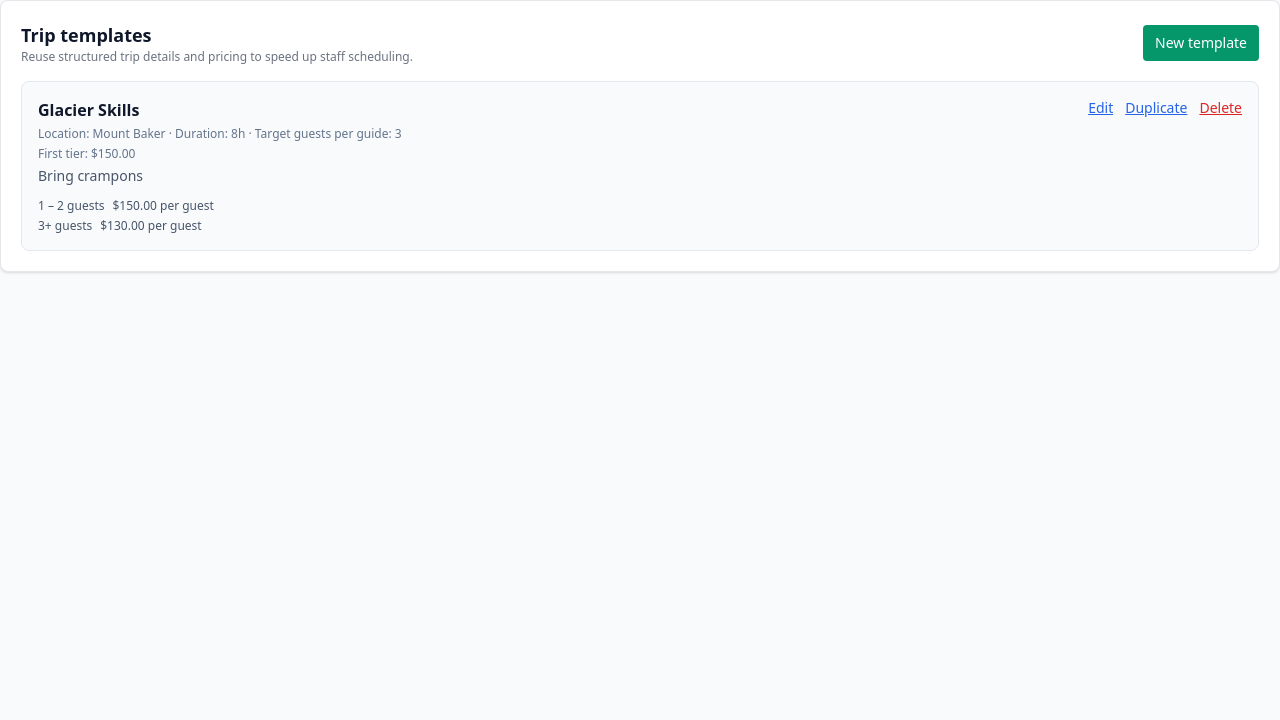
Test: ServiceTemplatesCard › edits an existing template
The image size is (1280, 720).
expect the heading "Glacier Skills" is shown: met, box [38,99,140,121]
Step 1. Click the button "Edit" → (1101, 108), box [1088,98,1113,118]
(page scrolled)
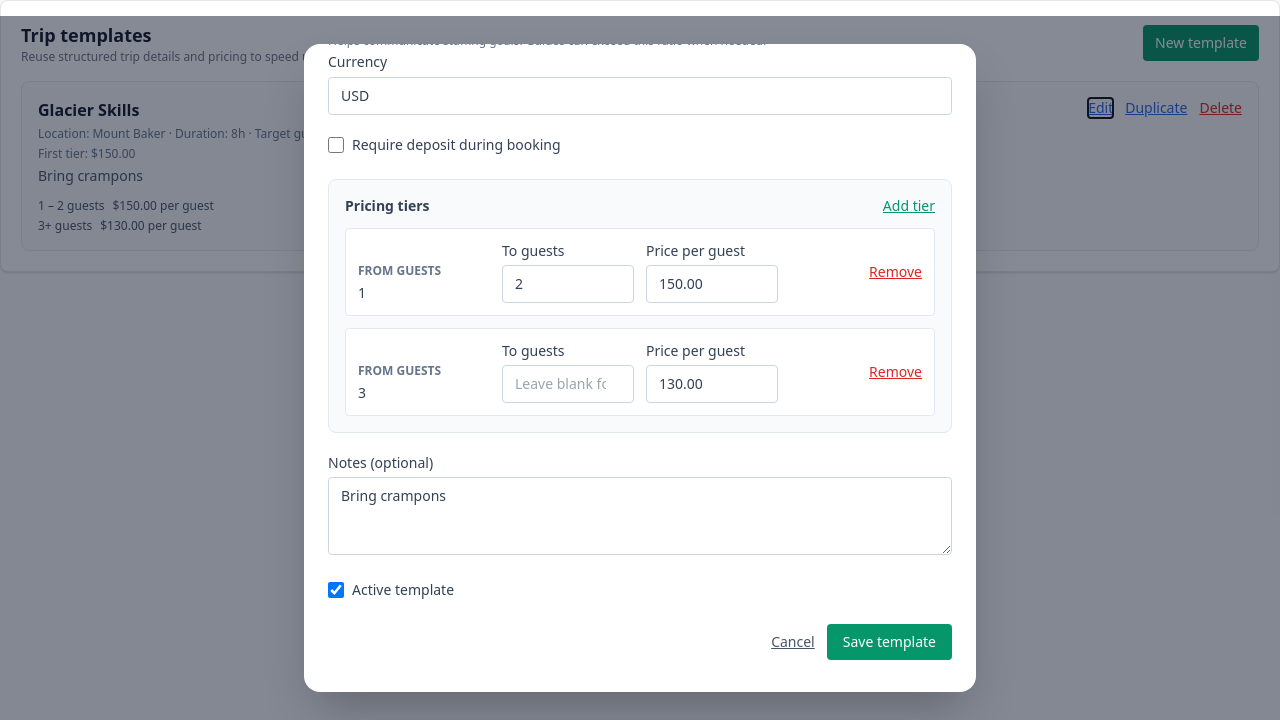
Step 2. Replace the text in the text box labelled "Notes (optional)" with "Updated notes" → (640, 516), box [328,477,952,555]
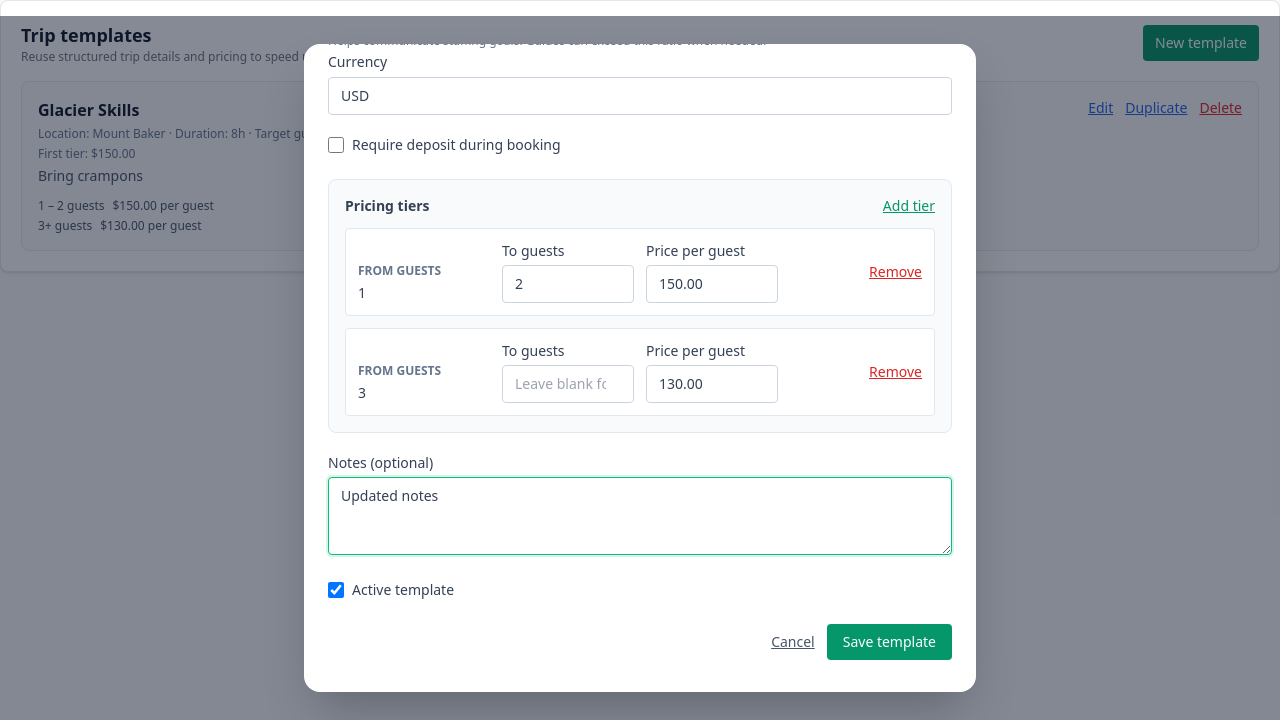
Step 3. Replace the text in the 1st number field labelled "Price per guest" with "155" → (712, 284), box [646,265,778,303]
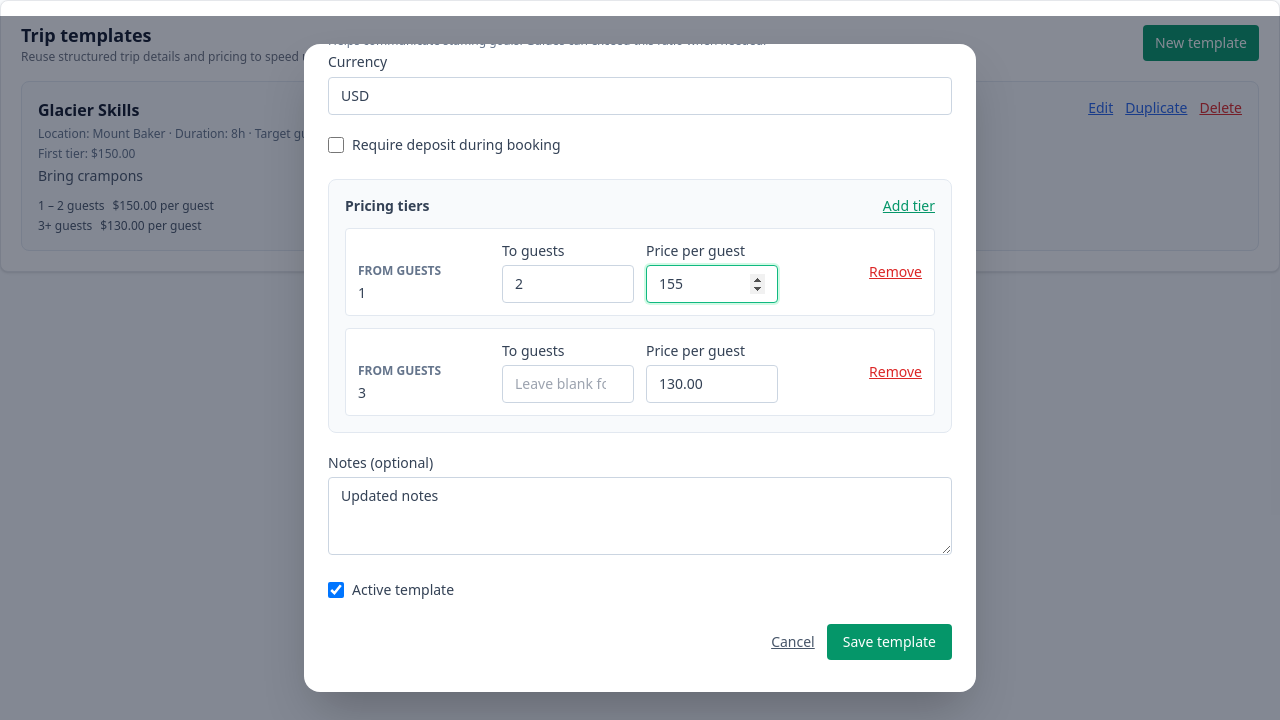
Step 4. Click the checkbox labelled "Active template" → (336, 590), box [328,582,344,598]
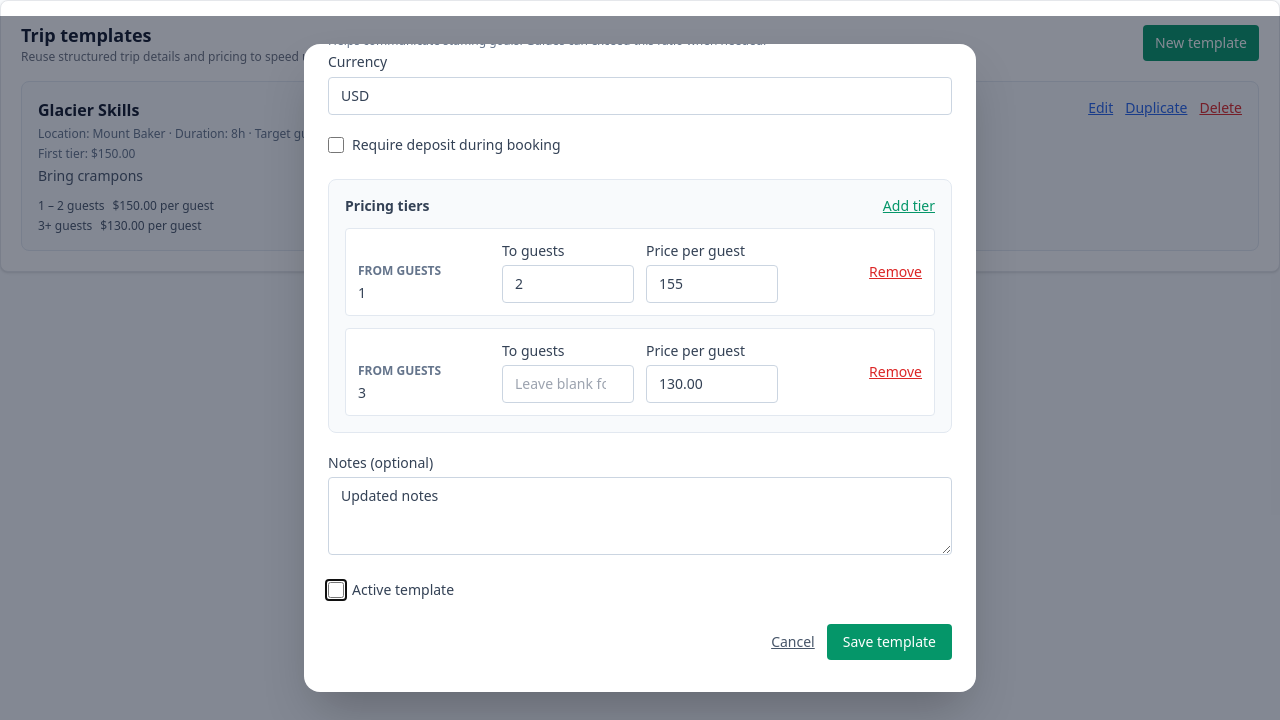
Step 5. Click the button "Save template" → (889, 642), box [827,624,952,660]
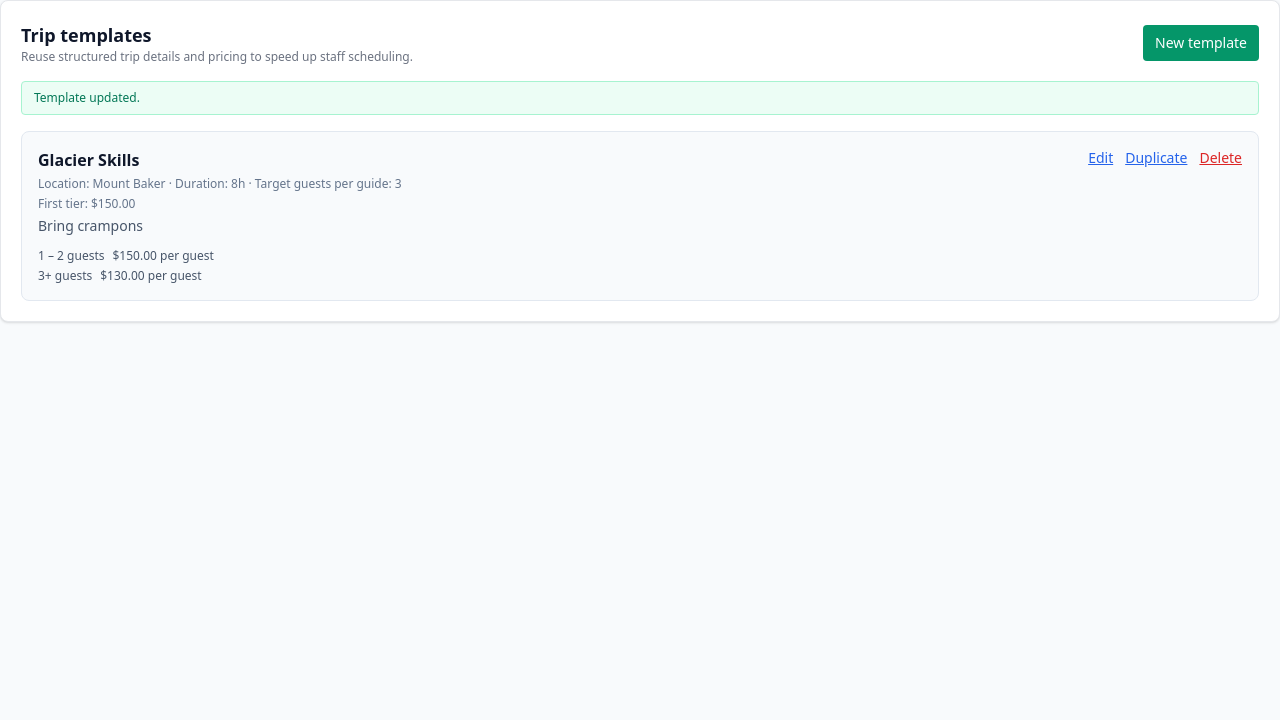
expect the text "Template updated." is shown: met, box [21,81,1259,115]
